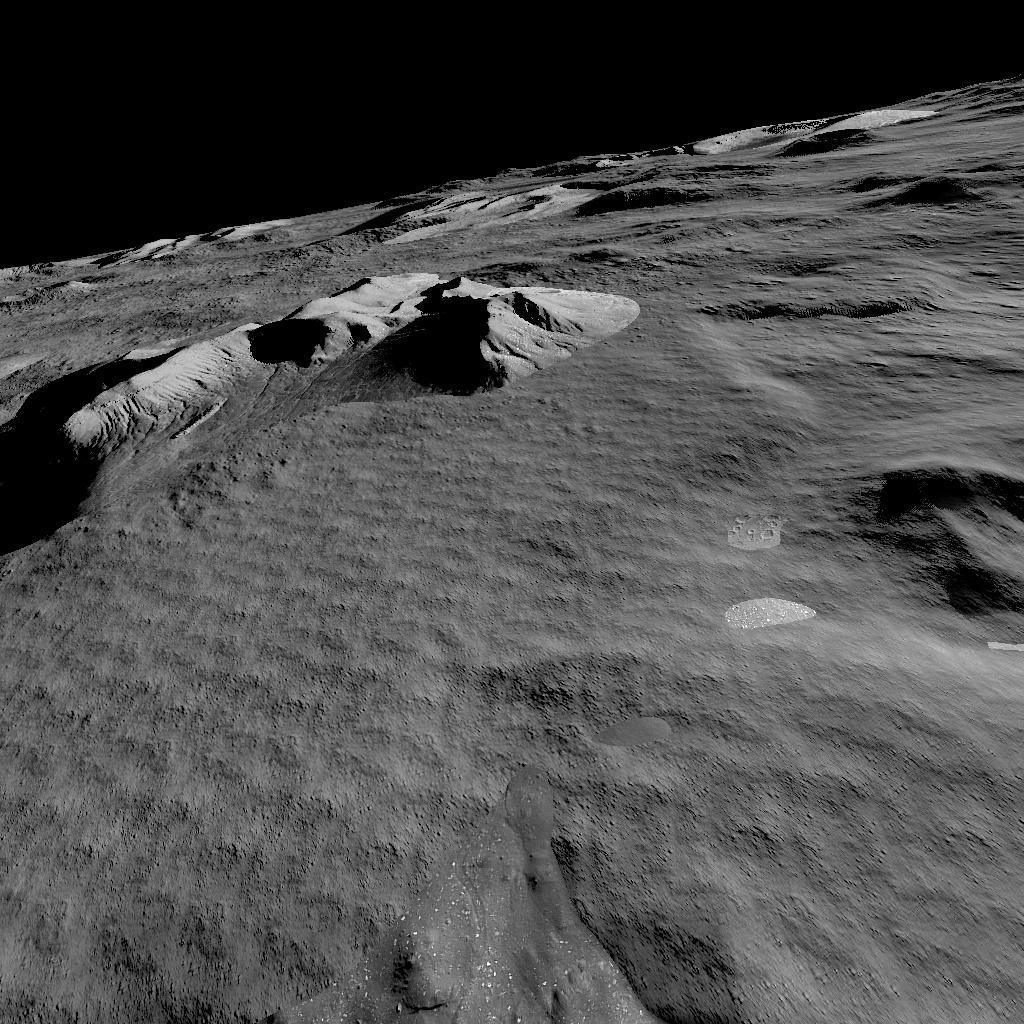Boulders: (2, 270, 648, 514), (338, 89, 1014, 248), (91, 214, 283, 262)
Crater: (5, 896, 1024, 1024), (864, 450, 1024, 638), (694, 276, 938, 335)
Plan surface: (0, 564, 852, 866)
